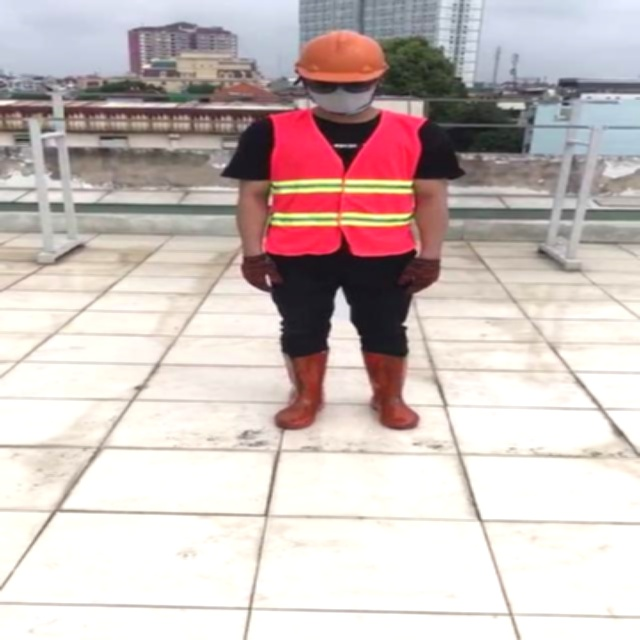boots: (220, 353, 280, 431), (311, 349, 368, 430)
gloves: (194, 256, 245, 298), (358, 253, 404, 293)
helmet: (251, 28, 352, 86)
vest: (219, 110, 377, 255)
